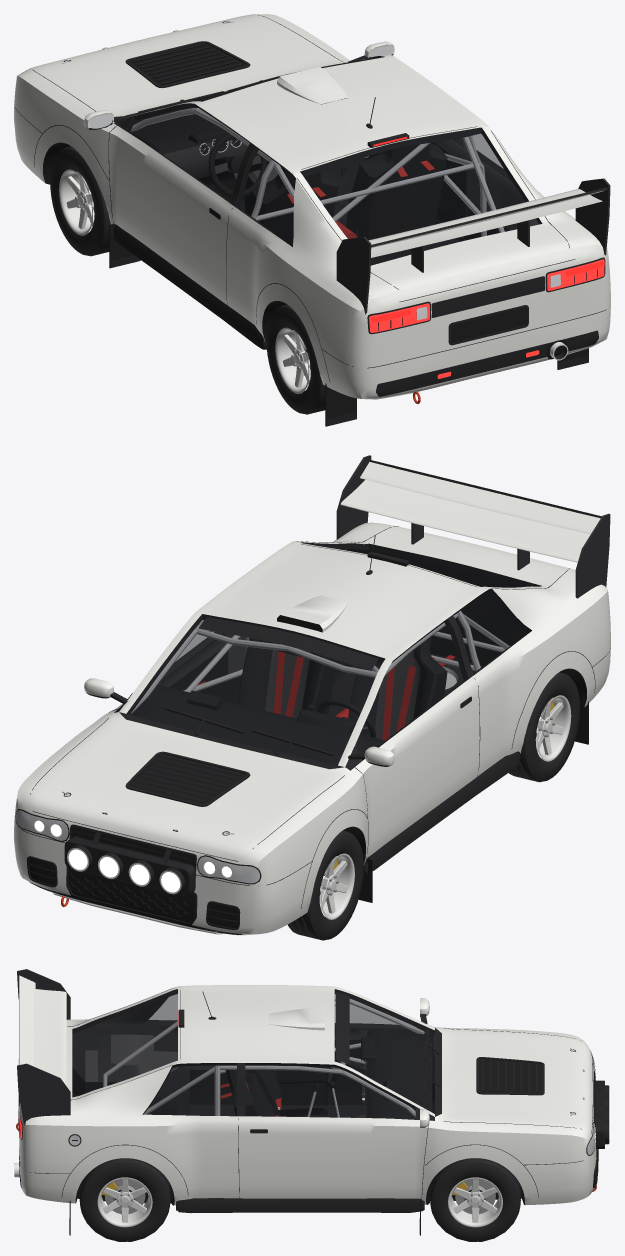
File: granite_rally.glb
The picture shows the model from 3 angles, top to bottom: view 1: azimuth 30°, elevation 25°; view 2: azimuth 150°, elevation 25°; view 3: azimuth 270°, elevation 25°; orthographic projection. The views are drawn at different scales.
Visible parts, largest first — view 1: Body, Glass, Interior, Wheel_FL, Wheel_RL, Lights_Tail, SteeringWheel, Lights_Brake; view 2: Body, Glass, Interior, Wheel_RL, Wheel_FL, Lights_Head; view 3: Body, Glass, Interior, Wheel_RR, Wheel_FR.
Part boxes in pixels (bbox=[...]): Body: bbox=[14, 14, 610, 426]; Glass: bbox=[126, 57, 541, 265]; Interior: bbox=[129, 108, 538, 265]; Wheel_FL: bbox=[50, 146, 110, 256]; Wheel_RL: bbox=[266, 304, 325, 414]; Lights_Tail: bbox=[369, 259, 604, 378]; SteeringWheel: bbox=[208, 133, 267, 196]; Lights_Brake: bbox=[371, 136, 603, 322]; Body: bbox=[14, 455, 610, 935]; Glass: bbox=[127, 544, 539, 764]; Interior: bbox=[130, 549, 527, 765]; Wheel_RL: bbox=[509, 672, 579, 782]; Wheel_FL: bbox=[287, 830, 363, 940]; Lights_Head: bbox=[34, 820, 231, 892]; Body: bbox=[14, 969, 609, 1235]; Glass: bbox=[72, 990, 434, 1119]; Interior: bbox=[72, 996, 434, 1119]; Wheel_RR: bbox=[79, 1158, 170, 1241]; Wheel_FR: bbox=[430, 1158, 520, 1241].
Bounding box in the file's own units: 2.1 × 1.61 × 4.34.
